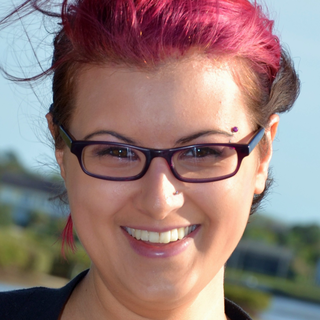eye: (180, 141, 227, 165), (94, 142, 140, 164)
